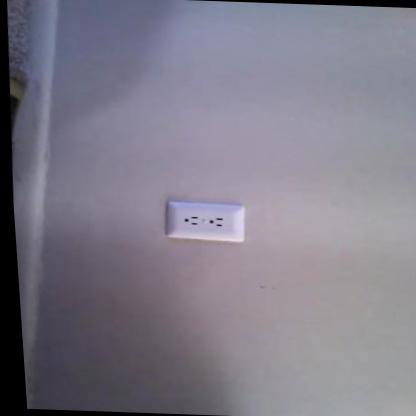OUTLET: (163, 199, 248, 243)
